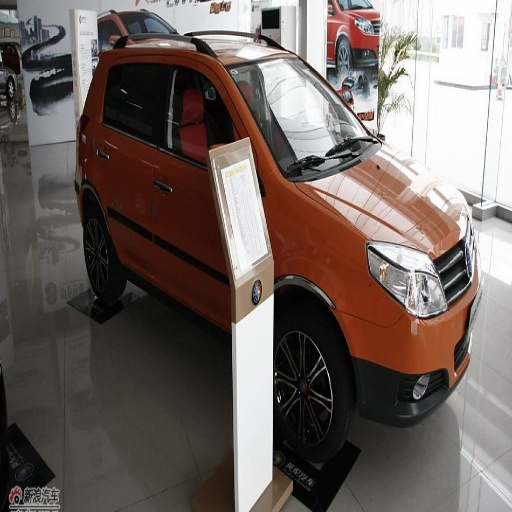front_bumper: (337, 281, 478, 423)
front_glass: (229, 56, 370, 179)
front_right_door: (153, 61, 251, 305)
front_right_light: (368, 245, 448, 318)
